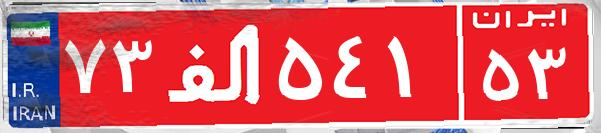1: (385, 28, 445, 110)
3: (110, 28, 158, 105), (525, 38, 570, 115)
4: (330, 28, 385, 110)
5: (273, 28, 330, 110), (475, 38, 525, 113)
7: (57, 26, 110, 107)
الف: (158, 15, 273, 115)
